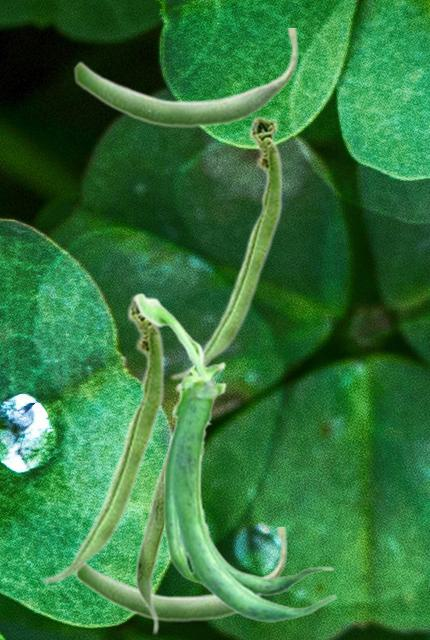french_bean: (133, 292, 336, 622), (40, 292, 164, 584), (169, 114, 282, 380), (73, 28, 298, 128), (75, 527, 287, 622), (134, 381, 179, 635)
